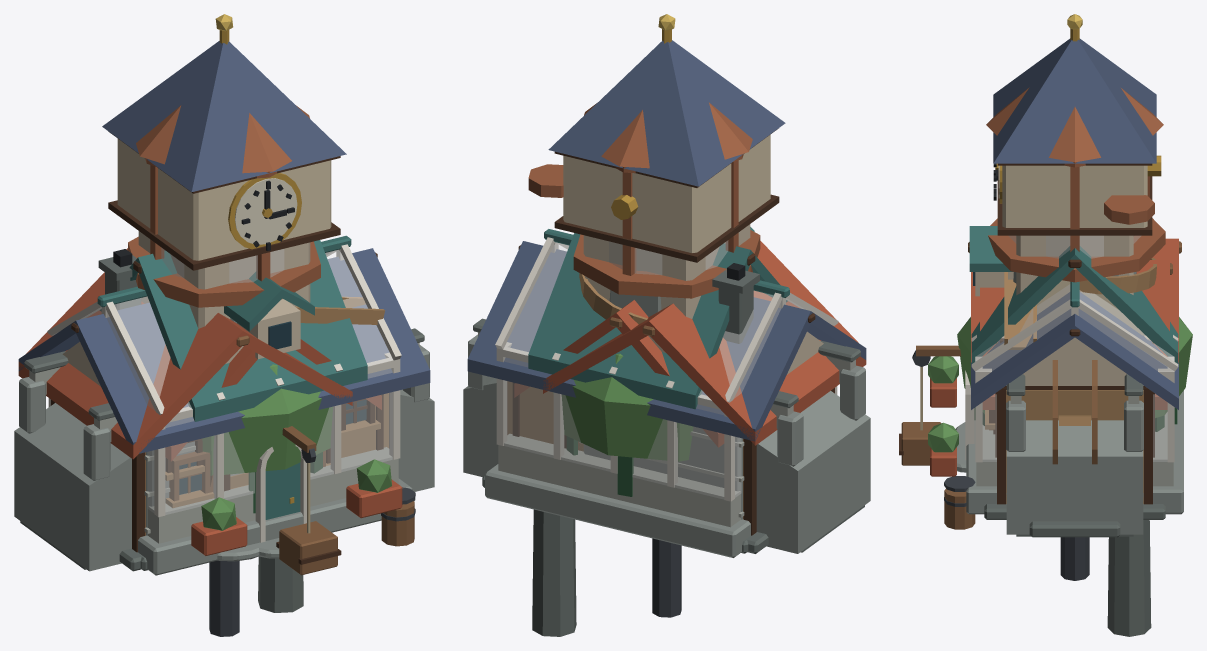
Rendered from world-kit.glb.
3 views of the same model, side by side, from view 1: azimuth 30°, elevation 25°; view 2: azimuth 150°, elevation 25°; view 3: azimuth 270°, elevation 25° (orthographic). The views are drawn at different scales.
Visible parts, largest first — view 1: greenhouse, clock, warehouse, bridge, mill, house-b, glassworks, willow, mechanism-spiral, house-a; view 2: greenhouse, clock, bridge, warehouse, glassworks, mill, house-b, willow, mechanism-spiral, house-a; view 3: clock, warehouse, greenhouse, bridge, glassworks, house-b, mill, house-a, mechanism-spiral, willow, mill-rotor.
Boxes of the visible parts, x1,y1,x2,y2 form: greenhouse: (47, 235, 412, 575); clock: (102, 14, 346, 328); warehouse: (18, 248, 430, 575); bridge: (14, 328, 434, 571); mill: (18, 248, 385, 570); house-b: (100, 240, 367, 549); glassworks: (128, 43, 320, 612); willow: (202, 364, 332, 513); mechanism-spiral: (209, 560, 239, 636); house-a: (165, 339, 381, 548); greenhouse: (485, 229, 838, 557); clock: (548, 14, 785, 318); bridge: (463, 318, 870, 553); warehouse: (467, 241, 866, 553); glassworks: (528, 41, 760, 636); mill: (543, 241, 866, 553); house-b: (528, 227, 787, 409); willow: (553, 353, 693, 496); mechanism-spiral: (579, 273, 681, 617); house-a: (514, 300, 724, 447); clock: (993, 14, 1161, 295); warehouse: (899, 292, 1178, 529); greenhouse: (928, 281, 1183, 514); bridge: (1006, 374, 1143, 536); glassworks: (986, 39, 1165, 636); house-b: (961, 226, 1178, 442); mill: (955, 238, 1181, 537); house-a: (965, 260, 1172, 434); mechanism-spiral: (1060, 257, 1156, 580); willow: (957, 317, 1192, 431); mill-rotor: (1052, 360, 1097, 464).
Size of the model in its own units: 4.12 by 7 by 3.24.
